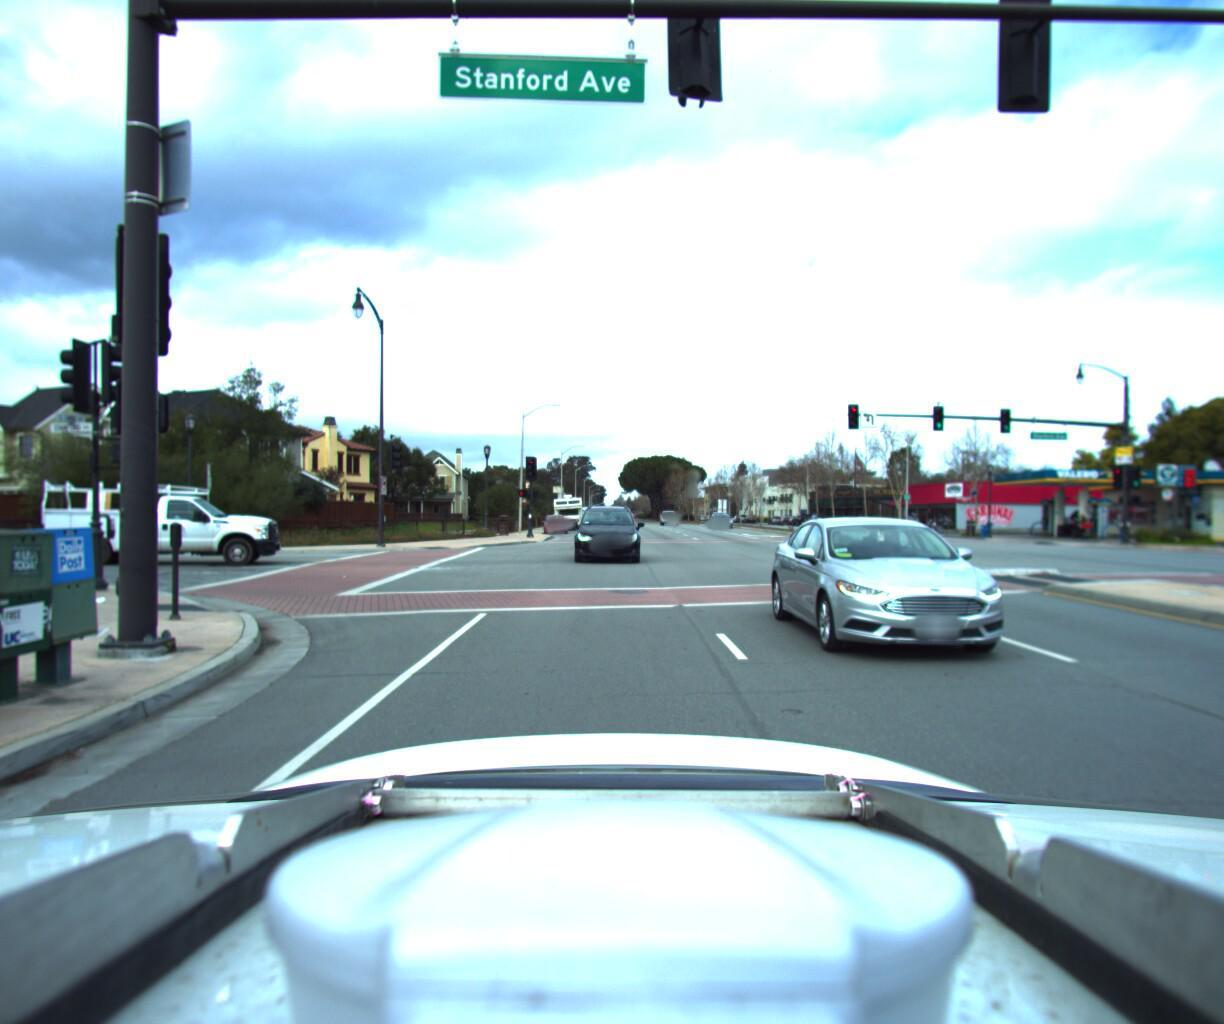car: (786, 506, 1112, 698), (29, 476, 287, 567), (570, 499, 635, 561)
motorcycle: (1063, 507, 1094, 532)
other_vehicle: (550, 487, 583, 523)
